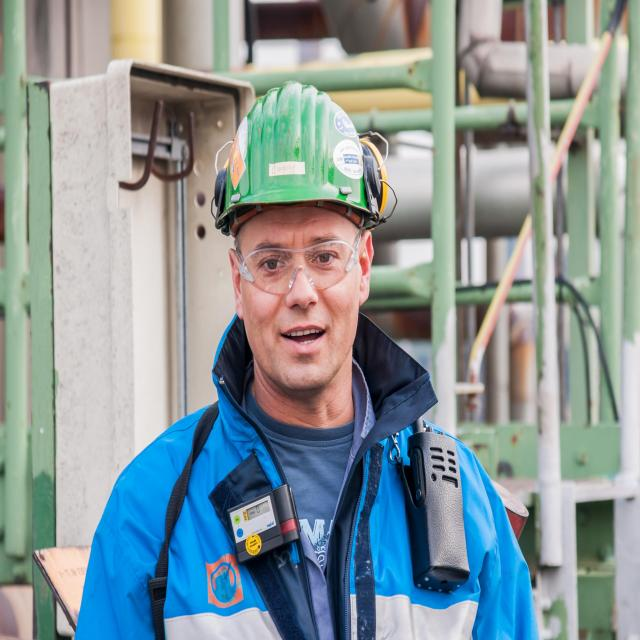Safety-Helmet: (211, 76, 390, 228)
